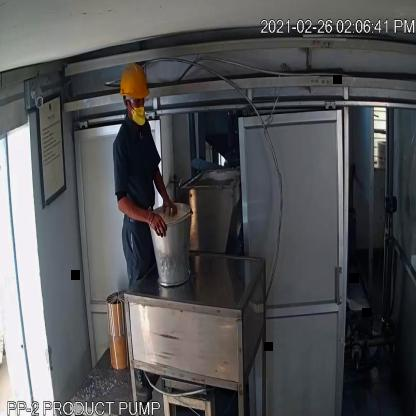helmet: (116, 56, 152, 104)
